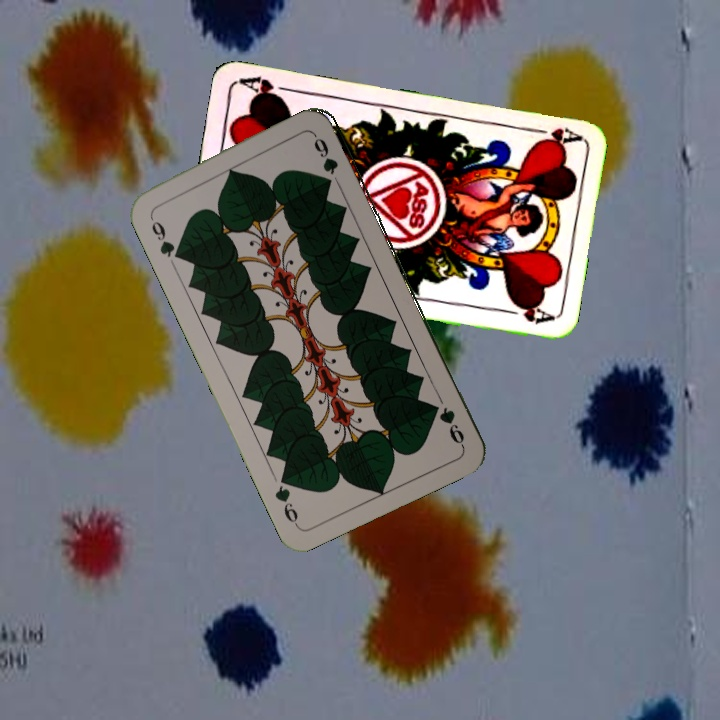G9: (145, 209, 184, 262), (435, 403, 467, 449)
HA: (523, 123, 582, 150)
